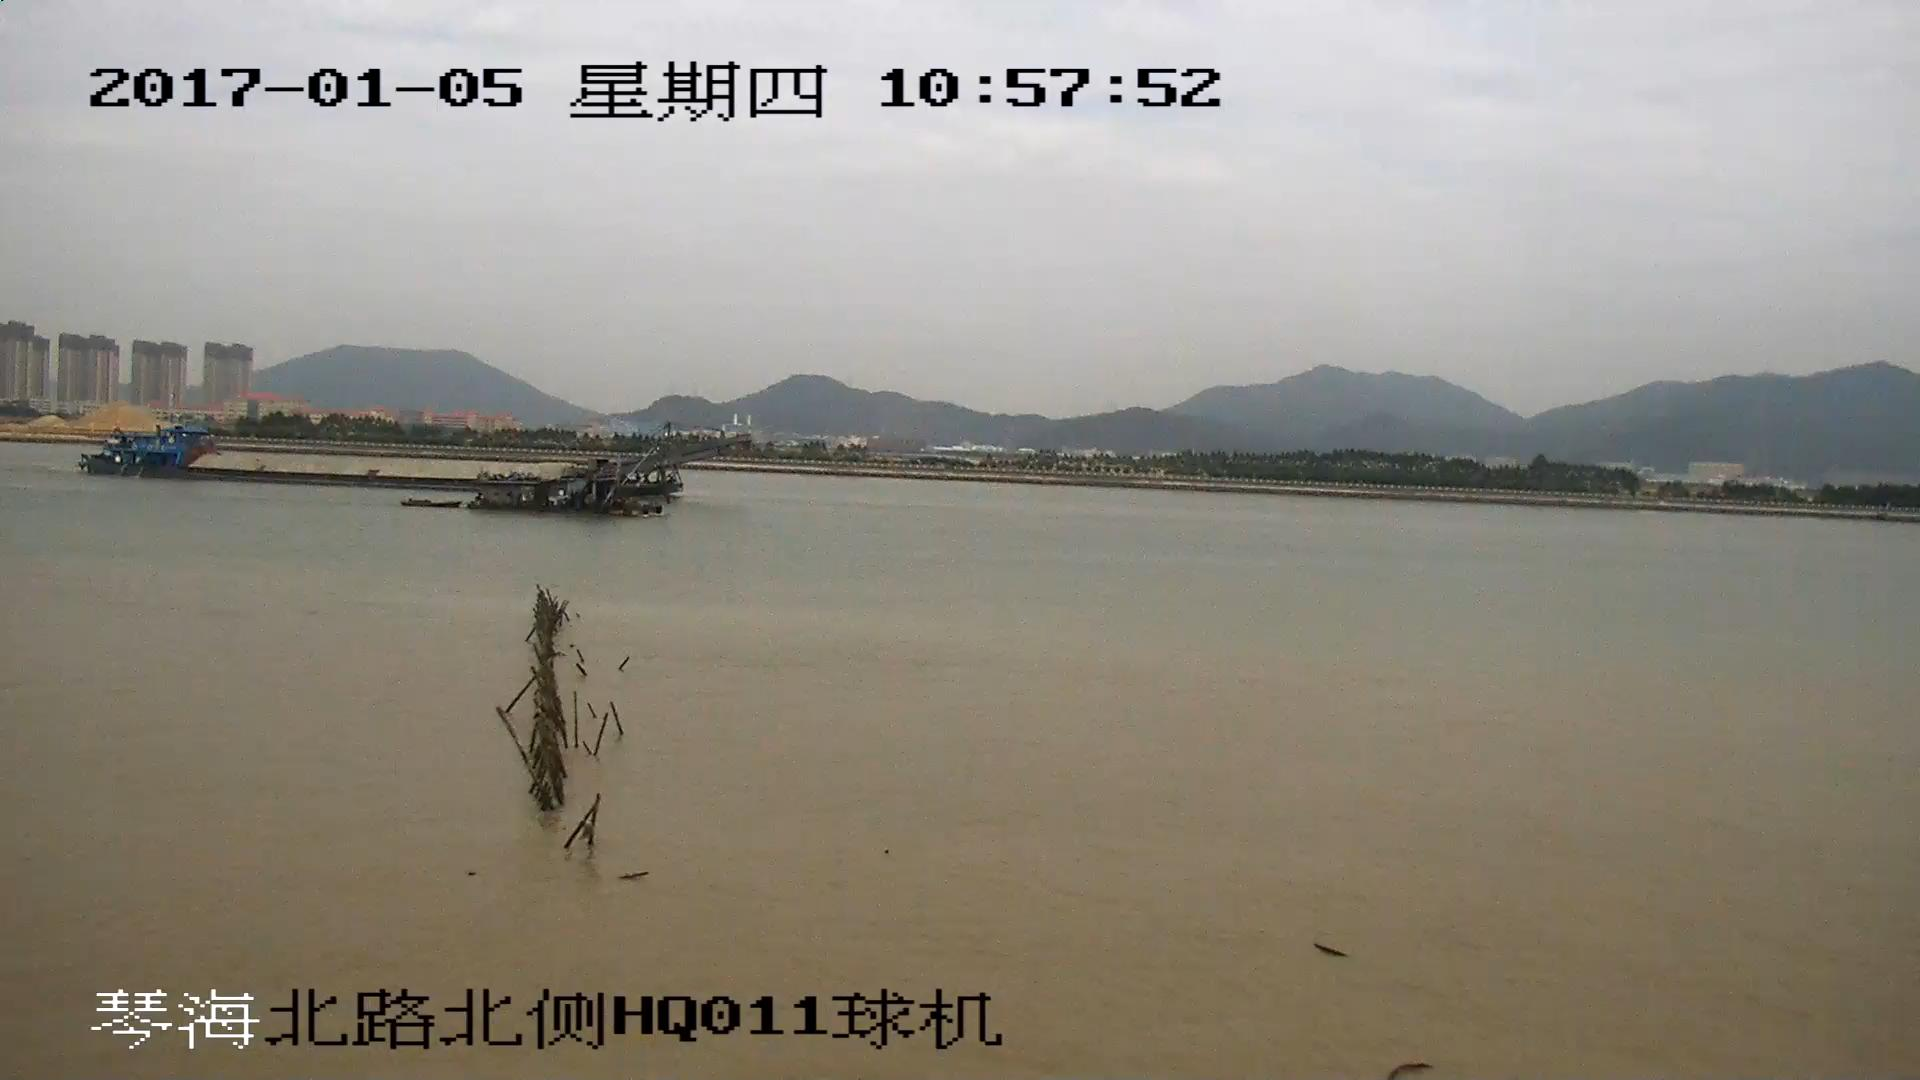ore carrier: (82, 432, 750, 516)
